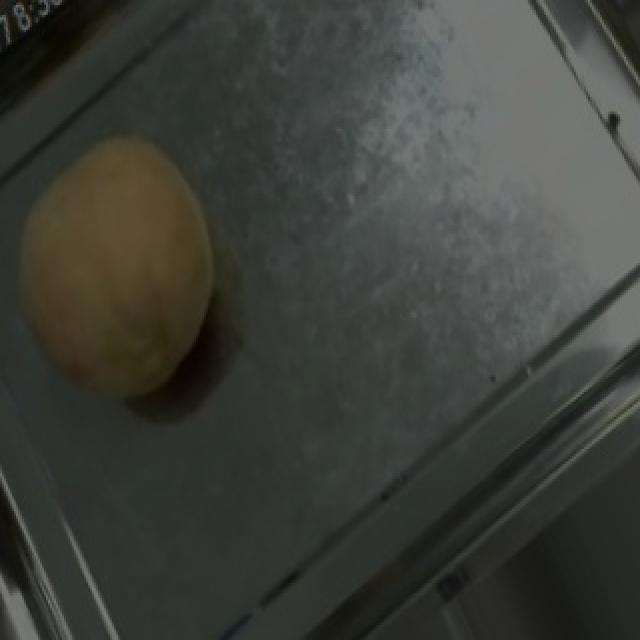Fruit: (0, 92, 266, 444)
